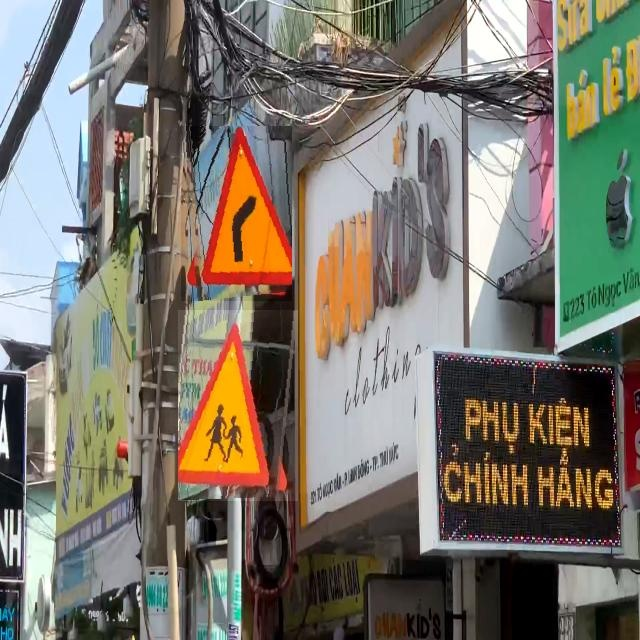bien_nguy_hiem: (178, 310, 298, 501), (181, 126, 292, 301)
